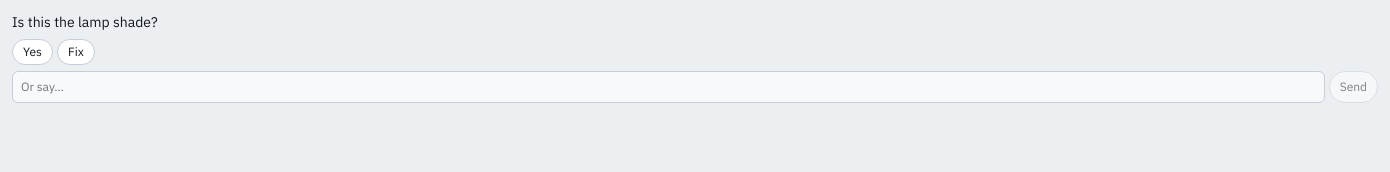
Test case: QuestionCard › confirm_part shows its part on the board; Fix enters box mode
Click the button "Fix" at [76, 52], box [57,39,95,65]
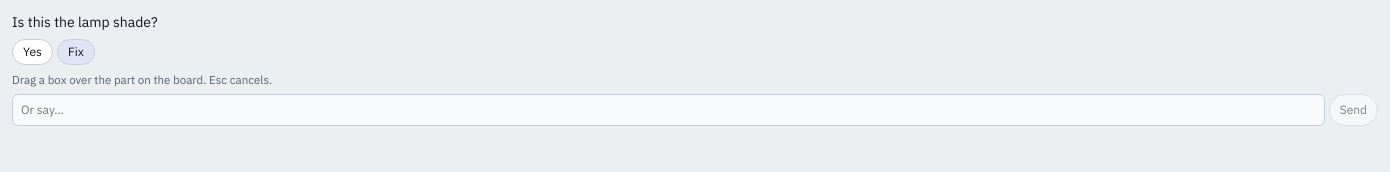
Expected: the text "Drag a box over the part on the board. Esc cancels." is shown, [12,72,272,87]
